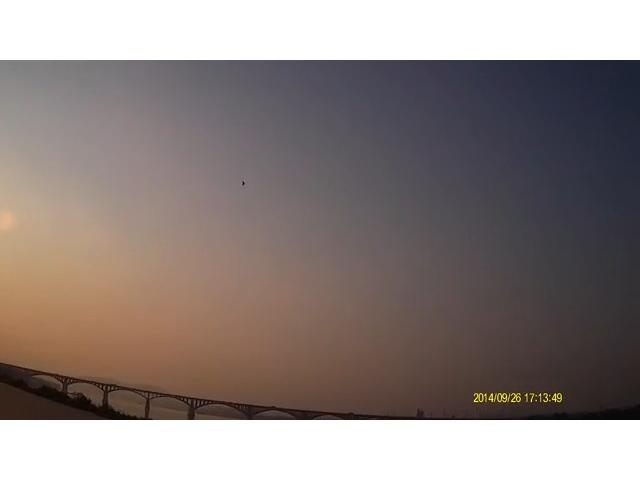Anti-Drone: (239, 177, 253, 191)
